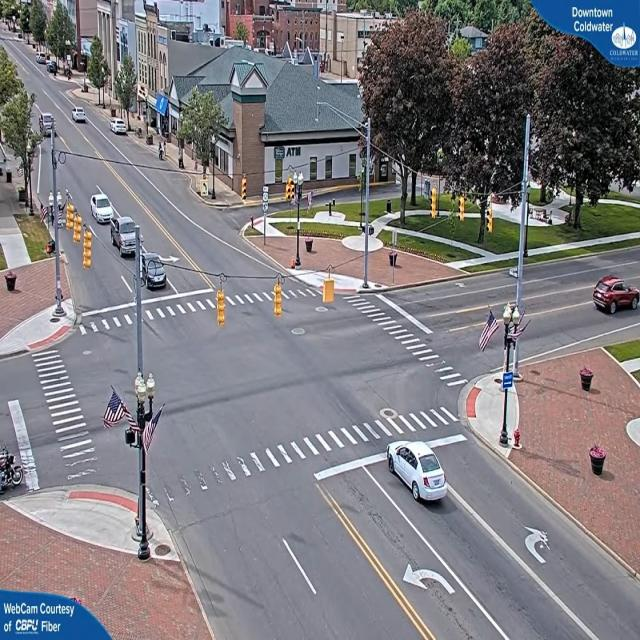car: (389, 442, 449, 504), (592, 274, 637, 315), (112, 219, 142, 256), (142, 254, 169, 289), (91, 191, 115, 223), (41, 114, 56, 138), (70, 107, 87, 125), (111, 119, 129, 136)
